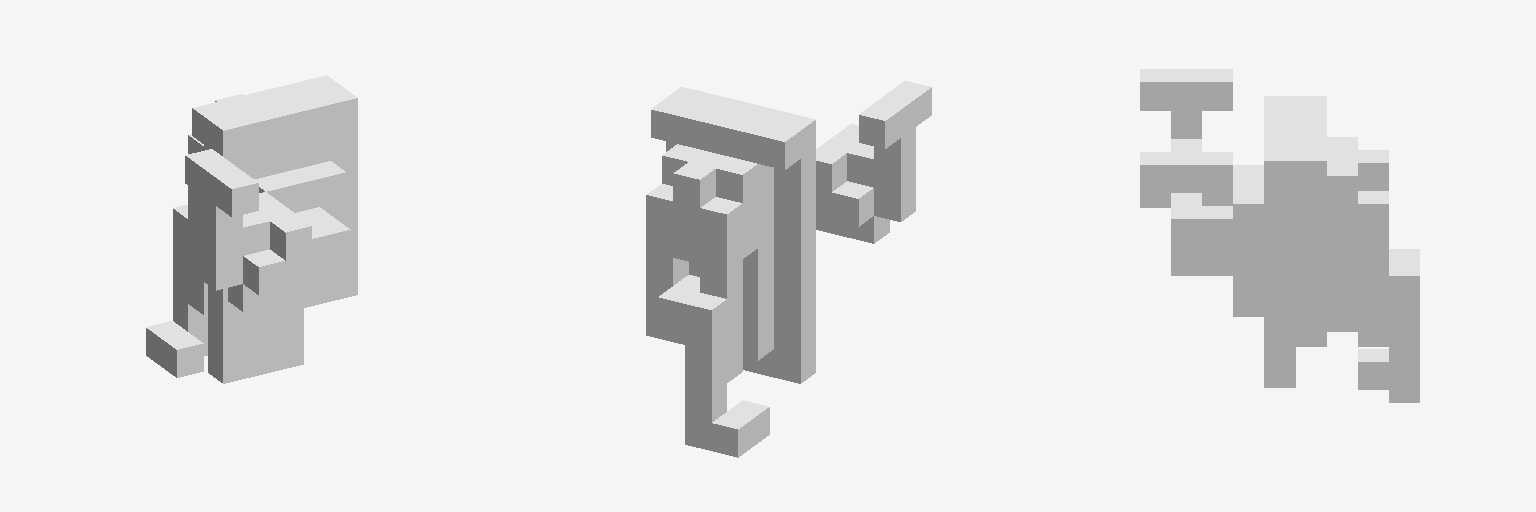
Rendered from Leg-52.obj.
The picture shows the model from 3 angles: view 1: azimuth 30°, elevation 25°; view 2: azimuth 150°, elevation 25°; view 3: azimuth 270°, elevation 25°; orthographic projection.
Parts seen in each view (by area): view 1: object 1; view 2: object 1; view 3: object 1.
Part boxes in pixels (x1,y1,x2,y2): object 1: (146,75,357,383); object 1: (646,81,931,457); object 1: (1140,69,1419,402).
Bounding box in the file's own units: 0.7 × 1 × 0.9.